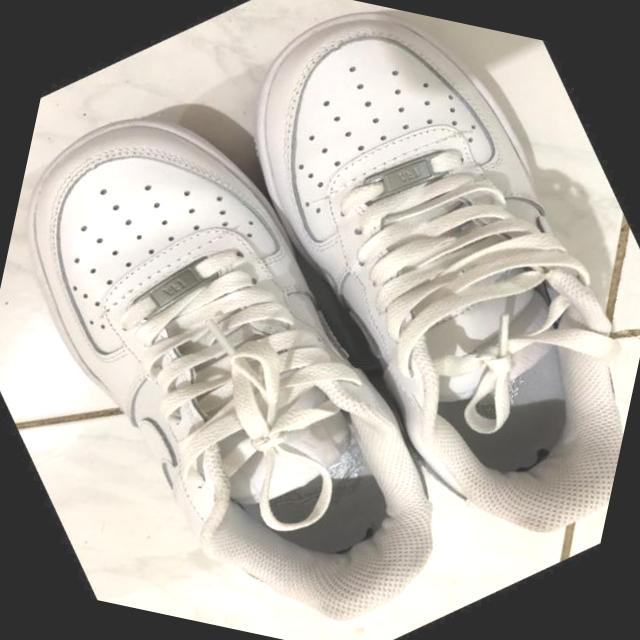nike_fake_airforce: (0, 22, 566, 640), (127, 0, 640, 612)
